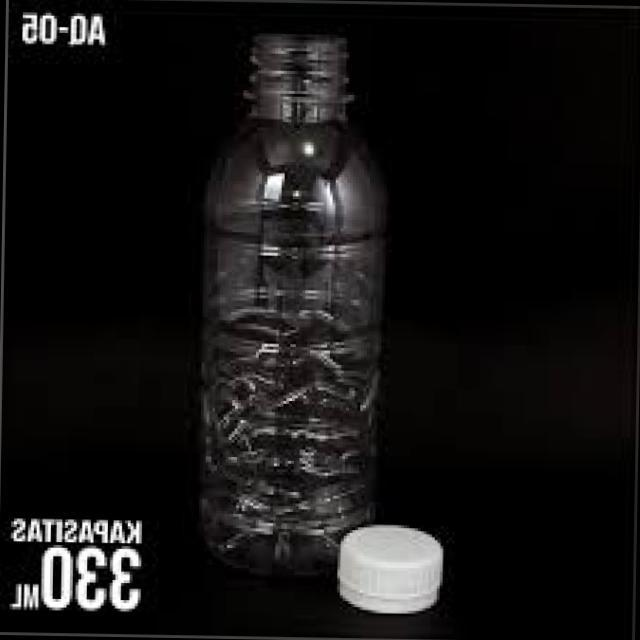good: (164, 36, 436, 540)
